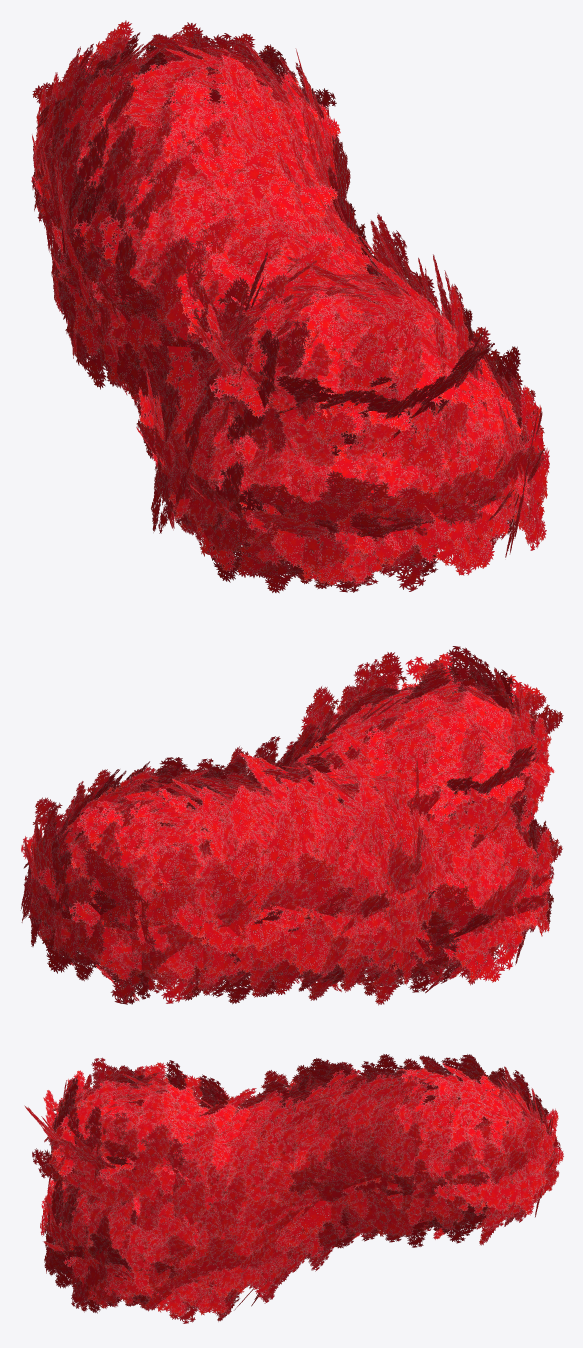
The model's file is leafes.fbx.
3 renders of one model, top to bottom at view 1: azimuth 30°, elevation 25°; view 2: azimuth 150°, elevation 25°; view 3: azimuth 270°, elevation 25°, orthographic. The views are drawn at different scales.
Visible parts, largest first — view 1: Imagem2-removebg-preview.1585; view 2: Imagem2-removebg-preview.1585; view 3: Imagem2-removebg-preview.1585.
Part boxes in pixels (box(x1,y1,x2,y2)): Imagem2-removebg-preview.1585: box(31, 20, 549, 593); Imagem2-removebg-preview.1585: box(20, 646, 563, 1005); Imagem2-removebg-preview.1585: box(24, 1054, 563, 1323).
Bounding box in the file's own units: 802 × 711 × 1487.
